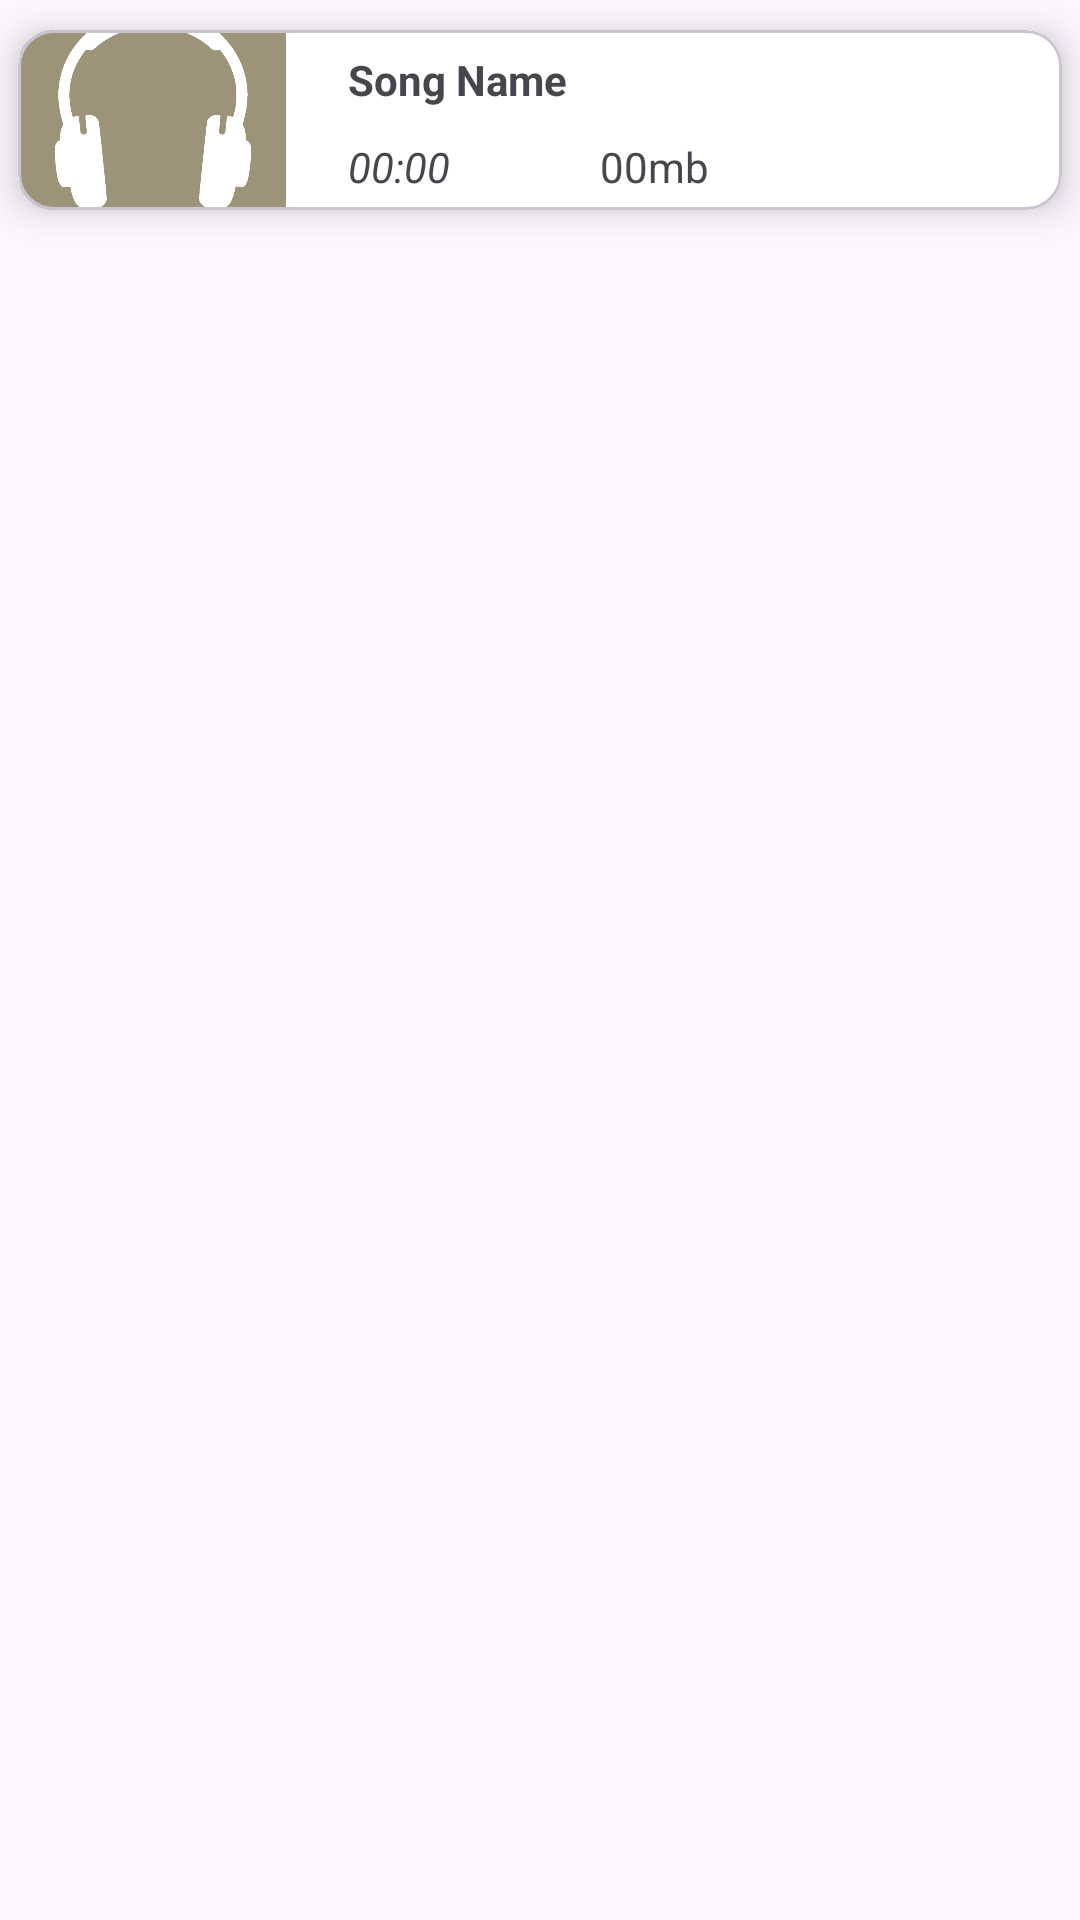

Named icons in this screenshot (1080x1920) and their centers, (x=x, y=y):
album place holder: (x=153, y=120)
